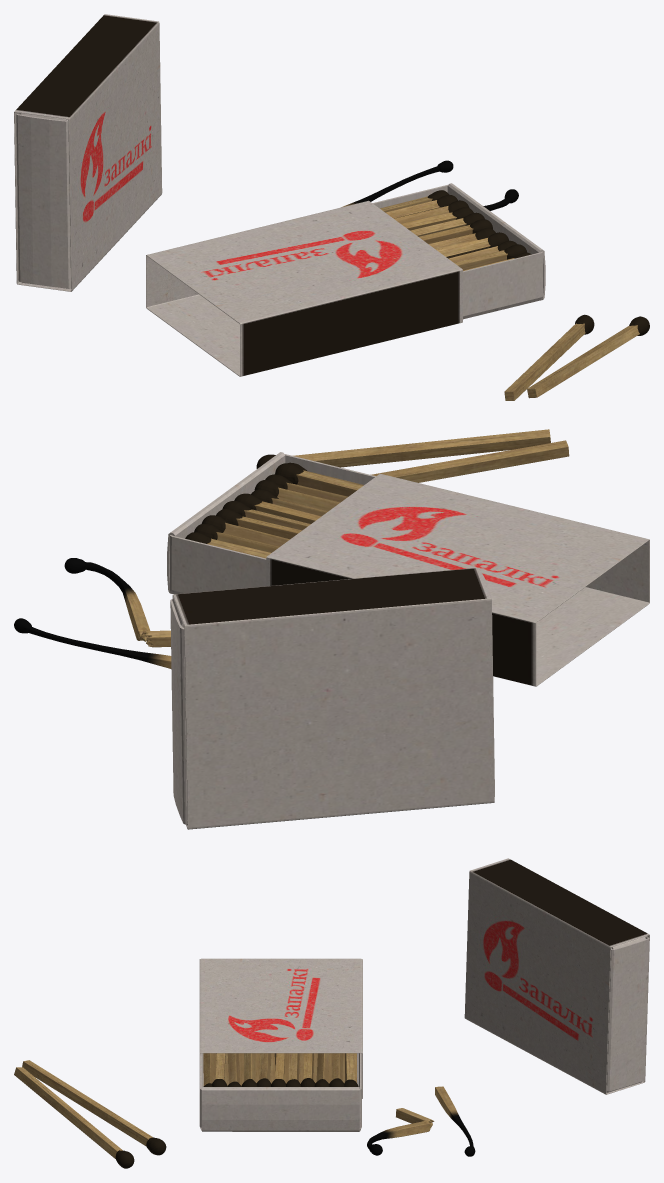
Rendered from Match box sticks.fbx.
The picture shows the model from 3 angles, top to bottom: view 1: azimuth 30°, elevation 25°; view 2: azimuth 150°, elevation 25°; view 3: azimuth 270°, elevation 25°; orthographic projection. The views are drawn at different scales.
Visible parts, largest first — view 1: mesh1_dat_Mesh, mesh7_dat_Mesh, mesh8_dat_Mesh, mesh4_dat_Mesh, mesh3_dat_Mesh, Mesh, Copy, mesh2_dat_Mesh; view 2: mesh7_dat_Mesh, mesh1_dat_Mesh, mesh4_dat_Mesh, mesh3_dat_Mesh, Mesh, mesh8_dat_Mesh, Copy, mesh0_dat_Mesh, mesh2_dat_Mesh; view 3: mesh7_dat_Mesh, mesh1_dat_Mesh, mesh3_dat_Mesh, mesh8_dat_Mesh, mesh4_dat_Mesh, Copy, Mesh, mesh0_dat_Mesh, mesh2_dat_Mesh.
Part boxes in pixels (box(x1,y1,x2,y2)): mesh1_dat_Mesh: box(146, 200, 462, 376); mesh7_dat_Mesh: box(14, 14, 162, 291); mesh8_dat_Mesh: box(16, 112, 70, 288); mesh4_dat_Mesh: box(380, 190, 531, 271); mesh3_dat_Mesh: box(372, 183, 545, 319); Mesh: box(527, 316, 649, 398); Copy: box(504, 314, 594, 400); mesh2_dat_Mesh: box(341, 160, 453, 207); mesh7_dat_Mesh: box(172, 567, 494, 829); mesh1_dat_Mesh: box(266, 473, 649, 686); mesh4_dat_Mesh: box(185, 462, 363, 558); mesh3_dat_Mesh: box(167, 452, 375, 594); Mesh: box(256, 429, 550, 468); mesh8_dat_Mesh: box(170, 573, 494, 825); Copy: box(370, 440, 569, 482); mesh0_dat_Mesh: box(64, 558, 170, 647); mesh2_dat_Mesh: box(14, 618, 171, 668); mesh7_dat_Mesh: box(464, 858, 649, 1094); mesh1_dat_Mesh: box(199, 958, 362, 1098); mesh3_dat_Mesh: box(199, 1053, 361, 1131); mesh8_dat_Mesh: box(606, 936, 649, 1092); mesh4_dat_Mesh: box(203, 1053, 358, 1086); Copy: box(22, 1060, 166, 1155); Mesh: box(14, 1067, 134, 1168); mesh0_dat_Mesh: box(367, 1108, 434, 1155); mesh2_dat_Mesh: box(435, 1086, 475, 1156).
Bounding box in the file's own units: 243 × 95.84 × 362.
Materials: 1 (1 with a texture image).
